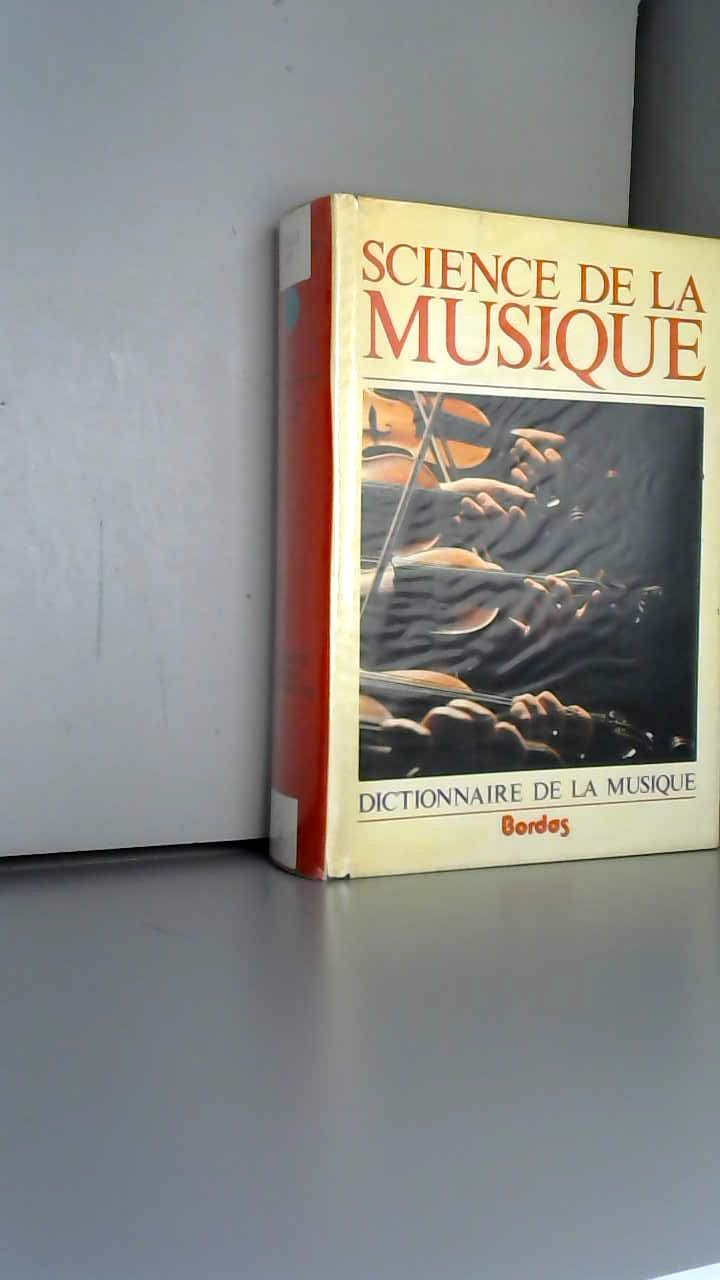book: (230, 170, 715, 898)
